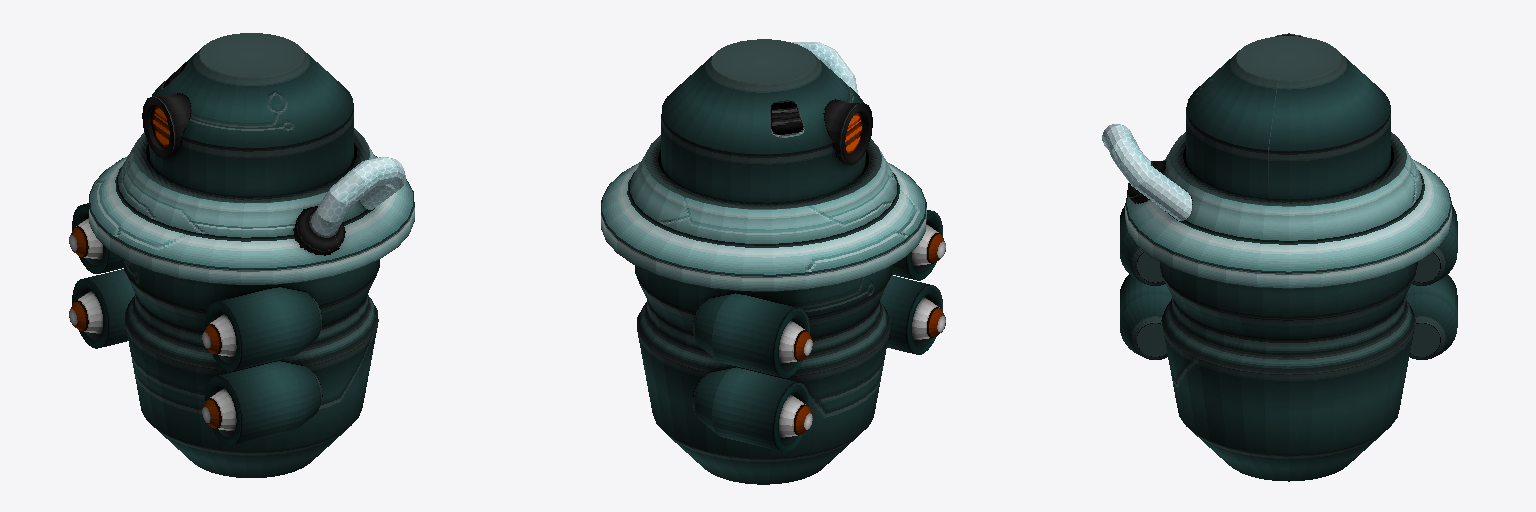
3 renders of one model, left to right at view 1: azimuth 30°, elevation 25°; view 2: azimuth 150°, elevation 25°; view 3: azimuth 270°, elevation 25°, orthographic.
Visible parts, largest first — view 1: Mesh_Cylinder.013_Cylinder; view 2: Mesh_Cylinder.013_Cylinder; view 3: Mesh_Cylinder.013_Cylinder.
Boxes of the visible parts, <box> form: Mesh_Cylinder.013_Cylinder: <box>69,33,414,477</box>; Mesh_Cylinder.013_Cylinder: <box>601,39,945,484</box>; Mesh_Cylinder.013_Cylinder: <box>1102,33,1457,481</box>.
Size of the model in its own units: 3.19 by 4.26 by 3.47.
Materials: 1 (1 with a texture image).